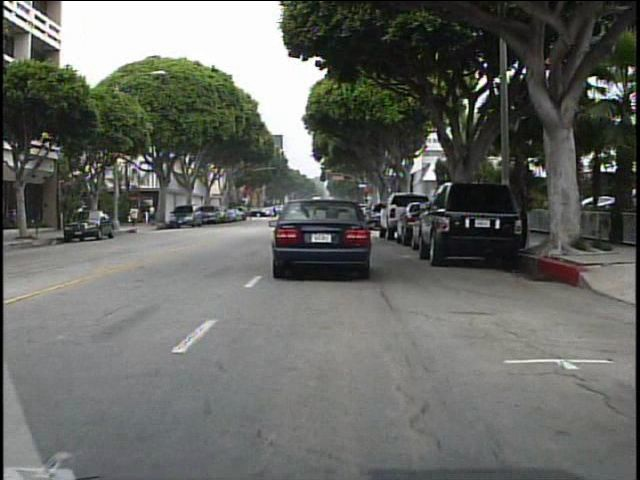person: (128, 201, 143, 231), (267, 201, 283, 225), (149, 202, 160, 226)
